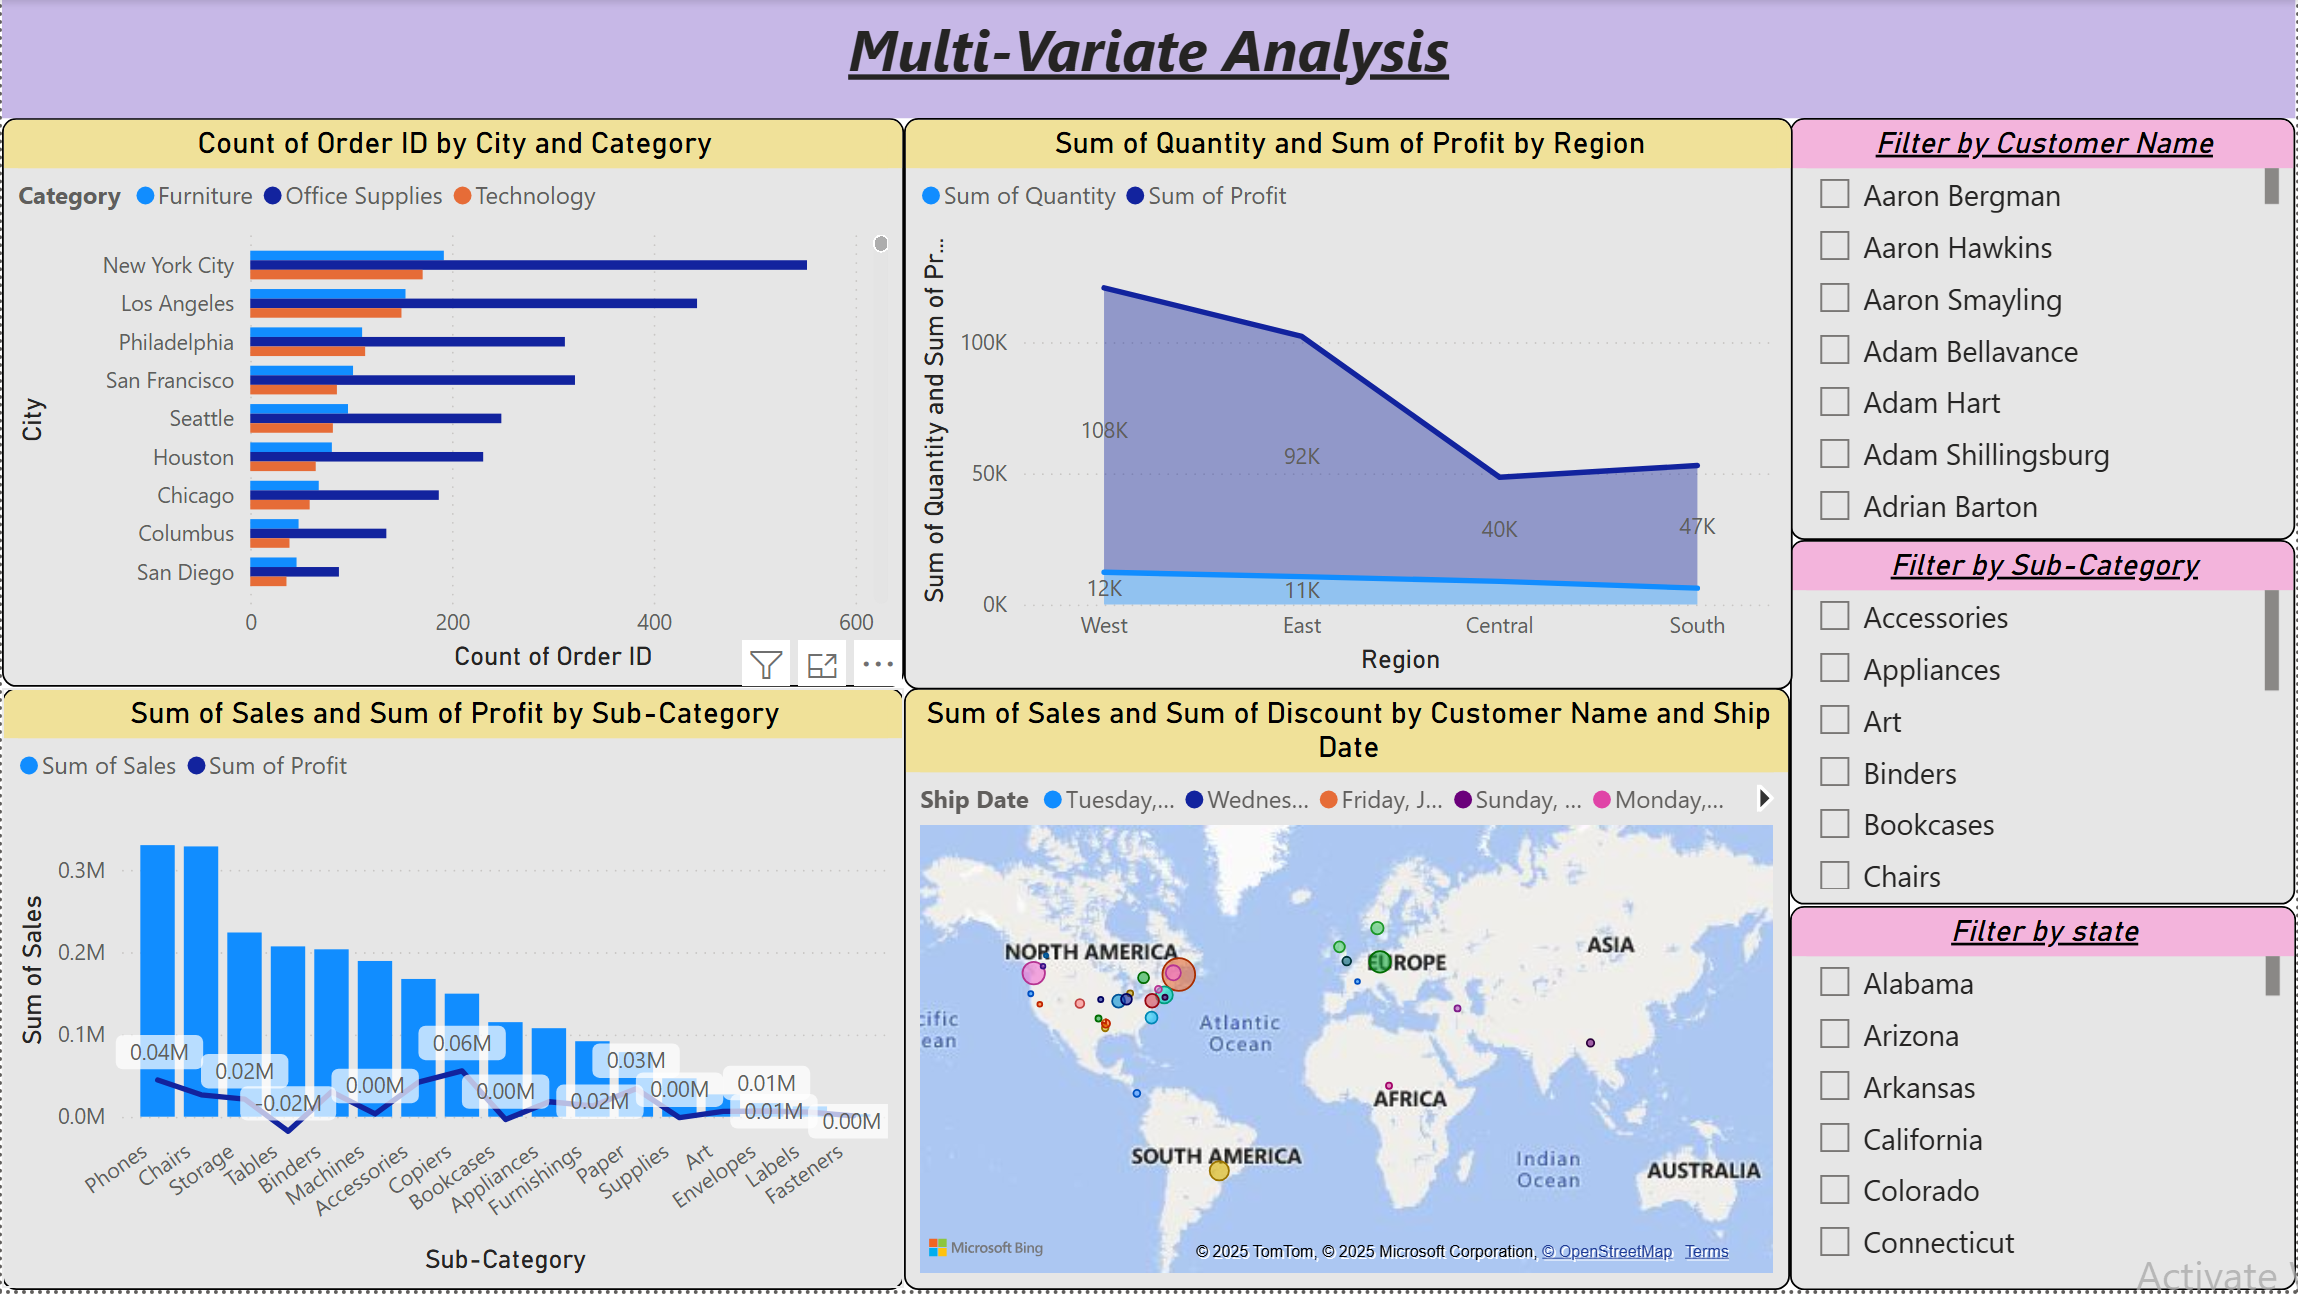

The page's visual inventory and layout, read from the dashboard file:
{"tool":"powerbi","page":{"name":"Multi-variate","canvas":[1280,720],"ordinal":4},"visuals":[{"type":"clusteredBarChart","fields":{"Category":["Superstore.City"],"Y":["Superstore.Order ID"],"Series":["Superstore.Category"]},"box":[0,66.2,503.7,317.3],"z":0},{"type":"textbox","box":[0,0,1280,66.2],"z":1},{"type":"lineClusteredColumnComboChart","fields":{"Category":["Superstore.Sub-Category"],"Y":["Superstore.Sales"],"Y2":["Superstore.Profit"]},"box":[0,383.5,503.7,335.8],"z":2},{"type":"slicer","title":"Filter by state","fields":{"Values":["Superstore.State"]},"box":[997.7,505.7,282.3,214.3],"z":3},{"type":"slicer","title":"Filter by Customer Name","fields":{"Values":["Superstore.Customer Name"]},"box":[998.1,66.2,281.9,235.7],"z":4},{"type":"slicer","title":"Filter by Sub-Category","fields":{"Values":["Superstore.Sub-Category"]},"box":[998.1,301.9,281.9,203.3],"z":5},{"type":"stackedAreaChart","fields":{"Category":["Superstore.Region"],"Y":["Superstore.Quantity","Superstore.Profit"]},"box":[503.7,66.2,496,318.8],"z":6},{"type":"map","fields":{"Category":["Superstore.Customer Name"],"Size":["Superstore.Sales"],"Series":["Superstore.Ship Date"]},"box":[503.7,383.5,494.4,335.8],"z":7}]}

Visuals, with their boxes in screenshot pixels (x1, y1, x2, y2), scaled from the page's 1280x720 canvas onto the 2298x1294 screenshot:
clusteredBarChart - Superstore.City x Superstore.Order ID: bbox=[0, 119, 904, 689]
textbox: bbox=[0, 0, 2297, 119]
lineClusteredColumnComboChart - Superstore.Sub-Category x Superstore.Sales: bbox=[0, 689, 904, 1293]
"Filter by state" slicer: bbox=[1791, 909, 2297, 1293]
"Filter by Customer Name" slicer: bbox=[1792, 119, 2297, 543]
"Filter by Sub-Category" slicer: bbox=[1792, 543, 2297, 908]
stackedAreaChart - Superstore.Region x Superstore.Quantity: bbox=[904, 119, 1795, 692]
map - Superstore.Customer Name x Superstore.Sales: bbox=[904, 689, 1792, 1293]
